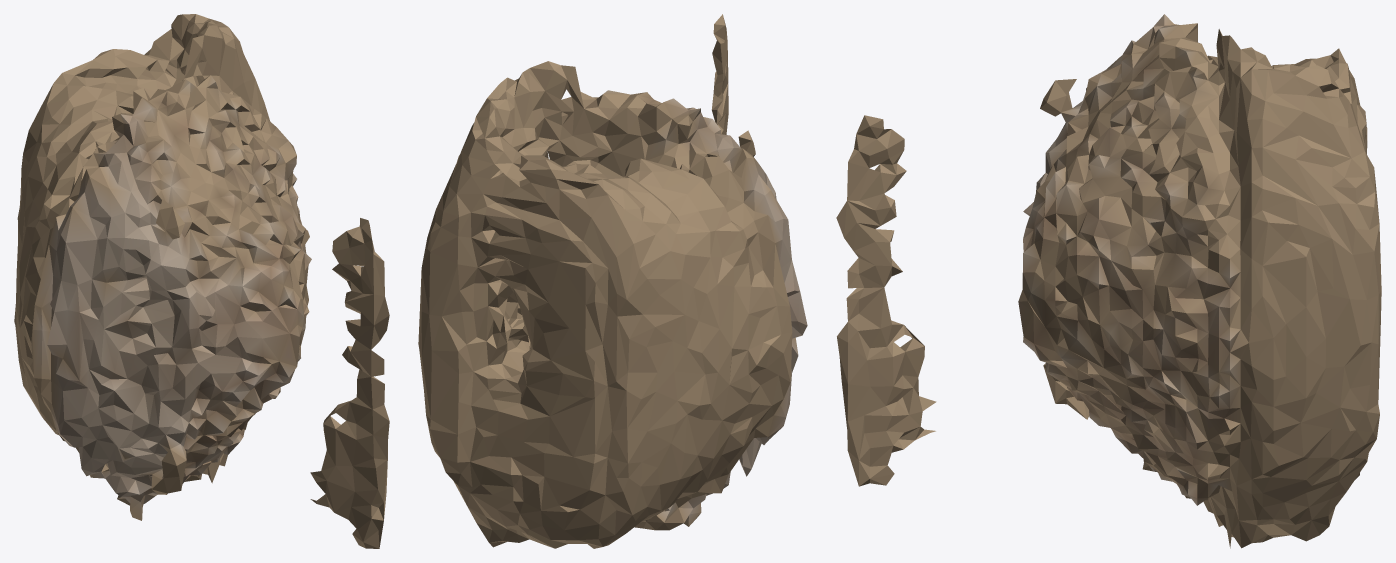
Rendered from dirt_patch.glb.
3 renders of one model, left to right at view 1: azimuth 30°, elevation 25°; view 2: azimuth 150°, elevation 25°; view 3: azimuth 270°, elevation 25°, orthographic. The views are drawn at different scales.
Parts seen in each view (by area): view 1: world; view 2: world; view 3: world.
Part boxes in pixels (x1,y1,x2,y2): world: (14, 14, 389, 548); world: (418, 14, 807, 548); world: (836, 14, 1381, 548).
Size of the model in its own units: 0.1027 by 0.15 by 0.1449.
